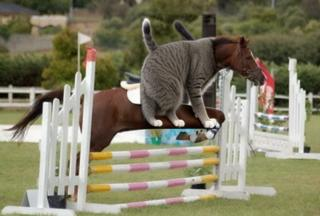cat: (140, 14, 215, 128)
horse: (13, 34, 267, 203)
